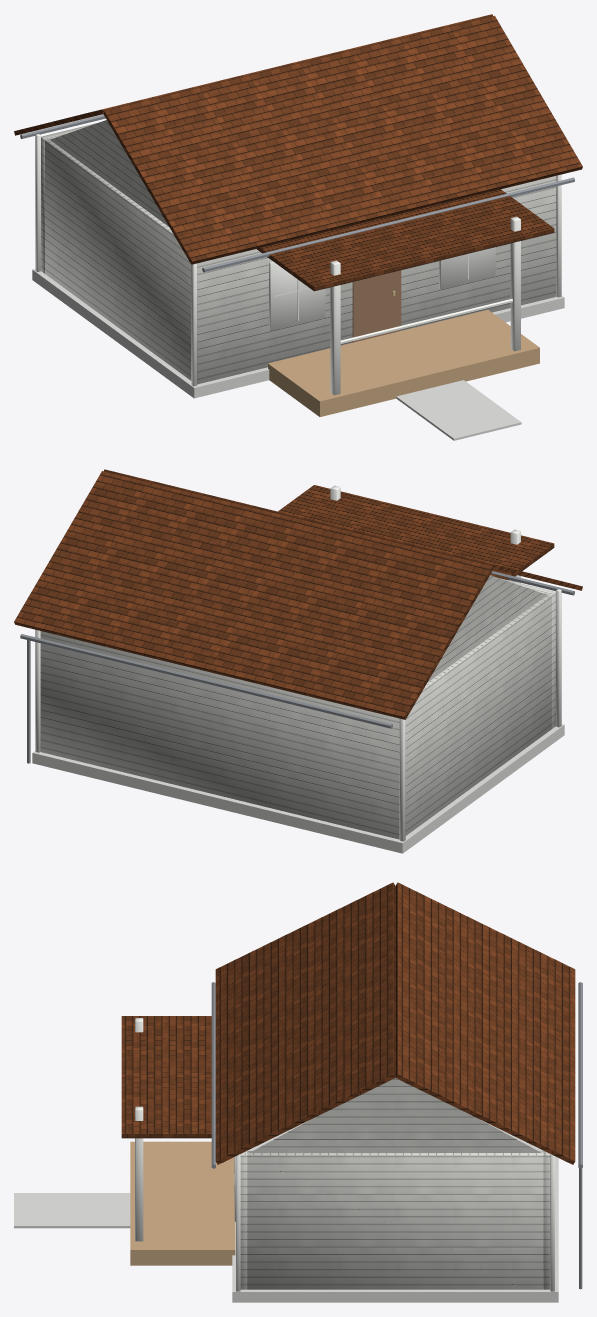
File: House.fbx
The picture shows the model from 3 angles, top to bottom: view 1: azimuth 30°, elevation 25°; view 2: azimuth 150°, elevation 25°; view 3: azimuth 270°, elevation 25°; orthographic projection.
Visible parts, largest first — view 1: LOD0; view 2: LOD0; view 3: LOD0.
Part boxes in pixels (x1,y1,x2,y2): LOD0: (14, 14, 582, 440); LOD0: (14, 469, 582, 853); LOD0: (14, 882, 582, 1302).
Size of what is drawn, in the model's own units: 780 by 442 by 977.
